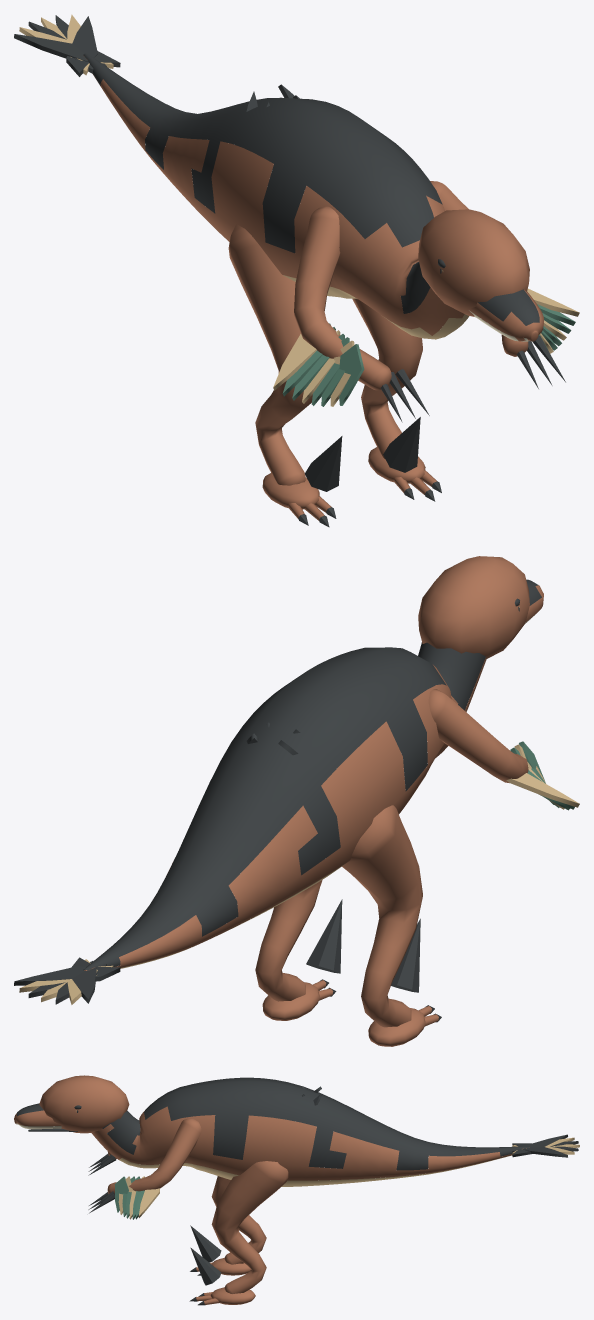
File: primeval-frontier-deinonychus-ec92ddc6__1699.glb
The picture shows the model from 3 angles, top to bottom: view 1: azimuth 30°, elevation 25°; view 2: azimuth 150°, elevation 25°; view 3: azimuth 270°, elevation 25°; orthographic projection. The views are drawn at different scales.
Visible parts, largest first — view 1: deinonychus; view 2: deinonychus; view 3: deinonychus.
Boxes of the visible parts, box(x1,y1,x2,y2) form: deinonychus: box(14, 14, 579, 527); deinonychus: box(14, 556, 579, 1046); deinonychus: box(14, 1075, 579, 1305).
Bounding box in the file's own units: 1.62 × 1.85 × 4.52.
